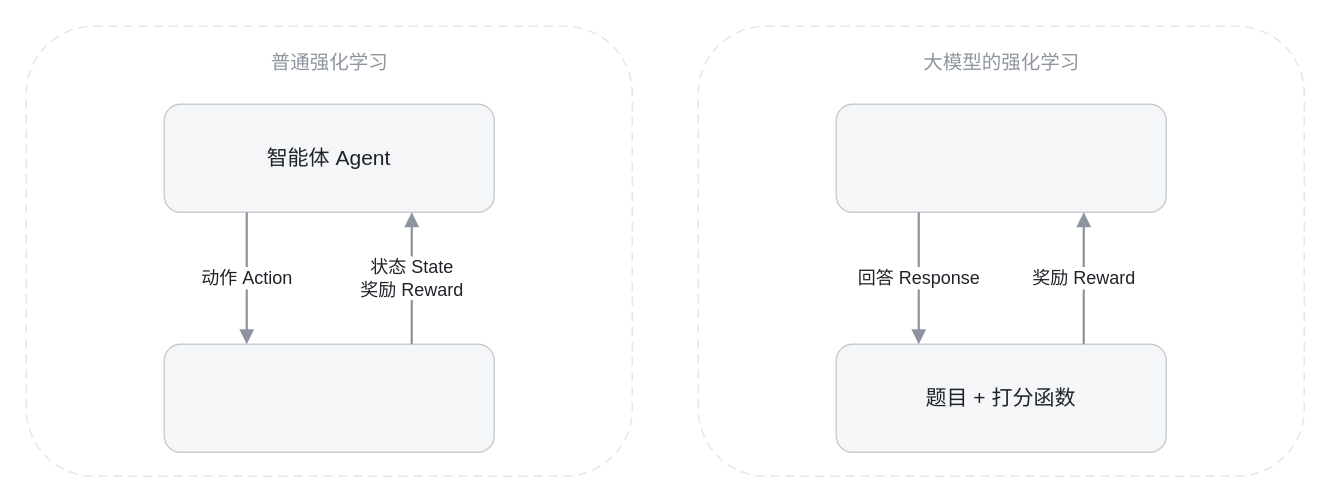
This 1331x503 diagram has some shape labels left out. Each missing label, with the box of its shape:
大模型 LLM: (835, 103, 1166, 212)
环境 Environment: (163, 343, 494, 452)
